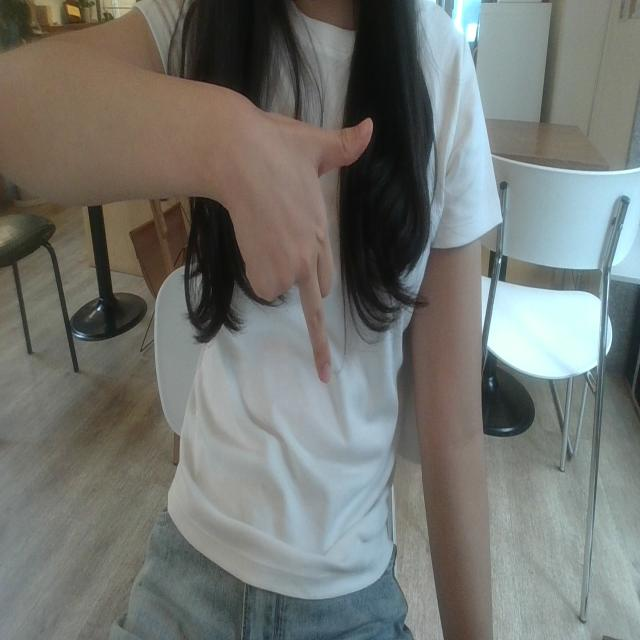kieuk: (231, 85, 387, 411)
